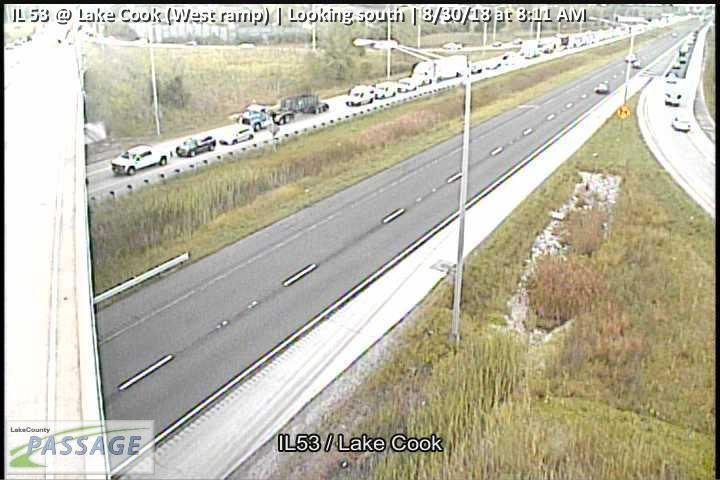Sedan: (109, 143, 171, 175), (219, 125, 254, 146), (344, 85, 374, 107), (370, 81, 396, 98), (394, 76, 419, 93)
Truck: (237, 92, 329, 131), (412, 52, 466, 84), (174, 134, 216, 157)
